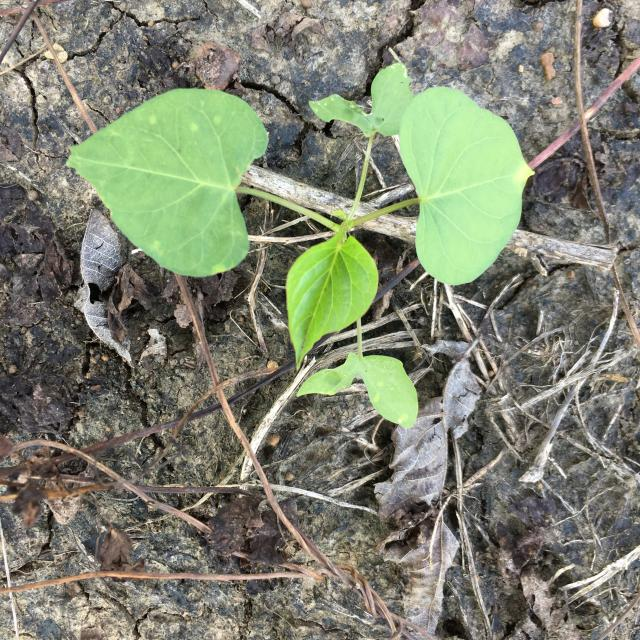MorningGlory: (66, 62, 536, 429)
